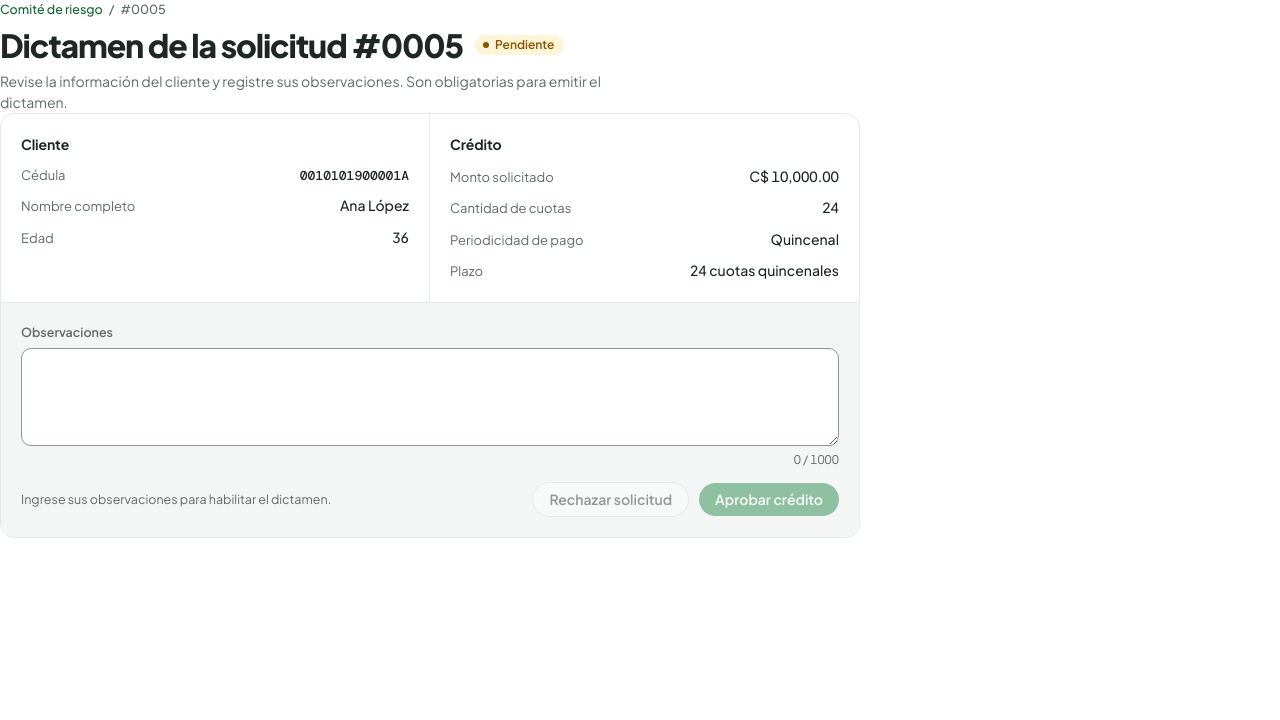
Test: DictamenPage › la confirmación cita las observaciones y el monto
This screenshot has width=1280, height=720.
Type "Capacidad verificada" into the text box labelled "Observaciones" at (430, 396), box [21,348,839,446]
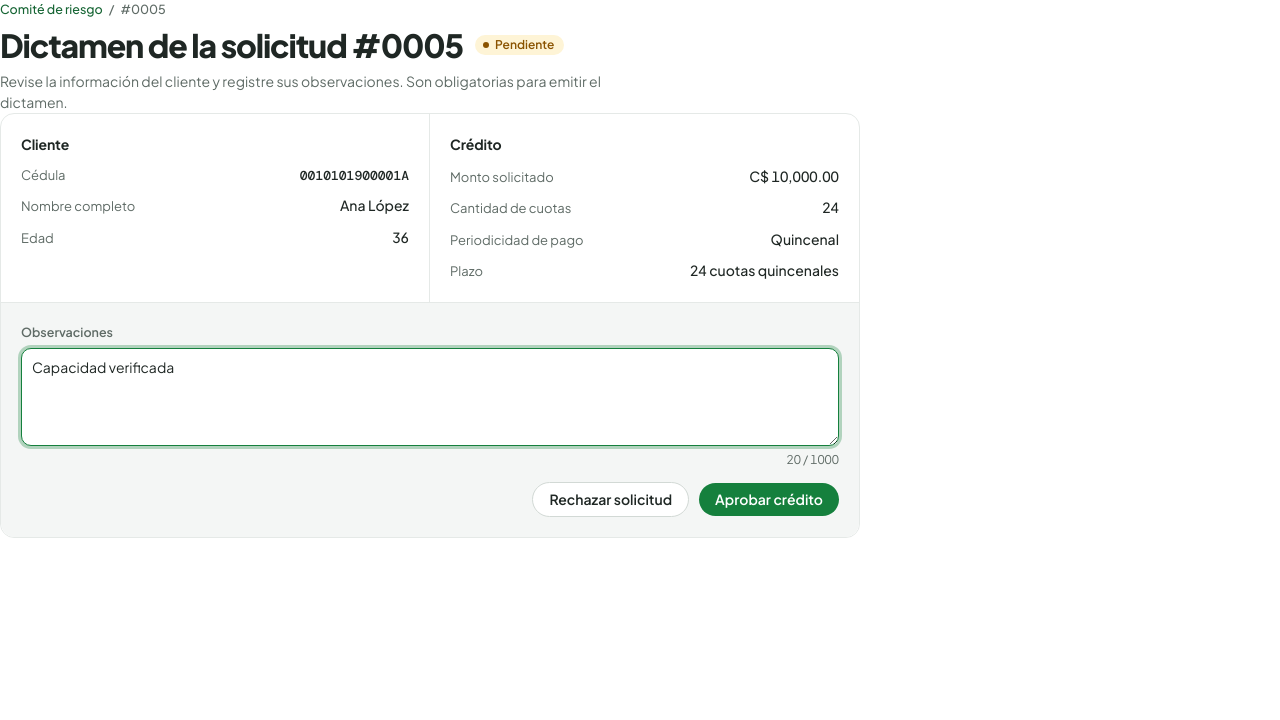
expect the text "20 / 1000" is shown: met, box [786,452,839,466]
Click the button "Aprobar crédito" at (769, 499), box [699,482,839,516]
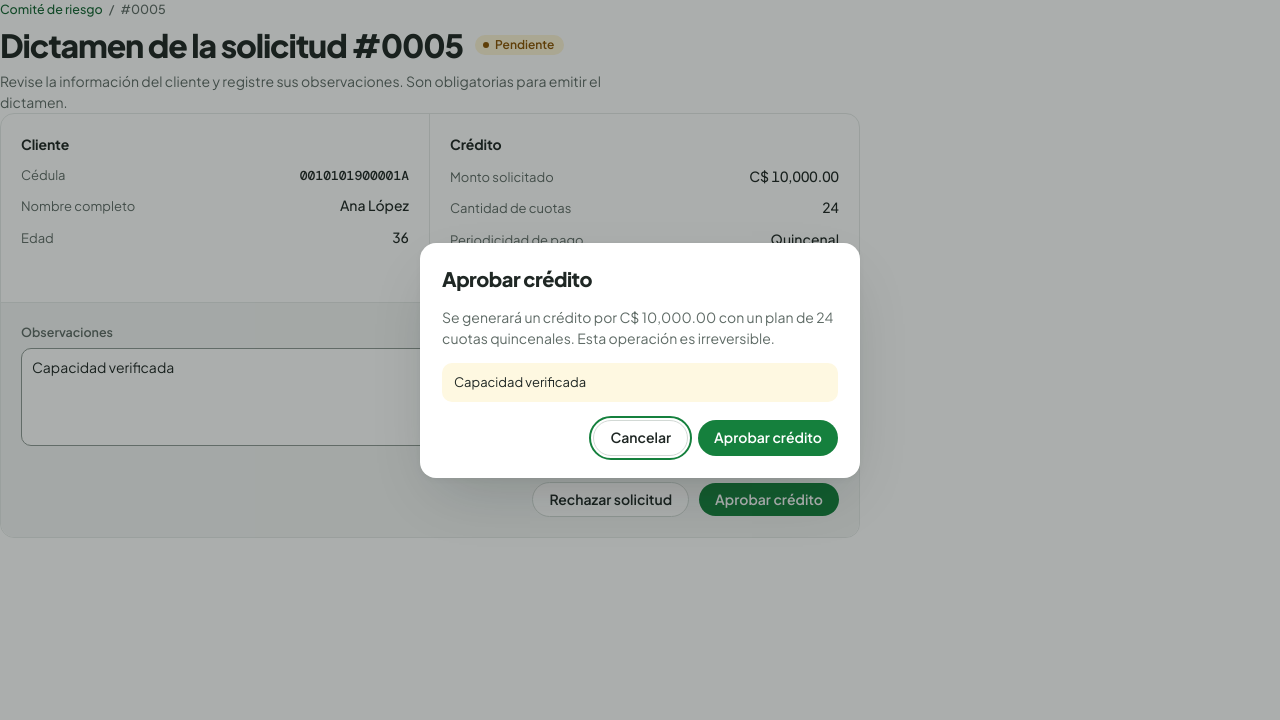
expect the dialog shows "Capacidad verificada": met, box [454,374,586,390]
expect the dialog shows "24 cuotas quincenales": met, box [442,308,833,346]
